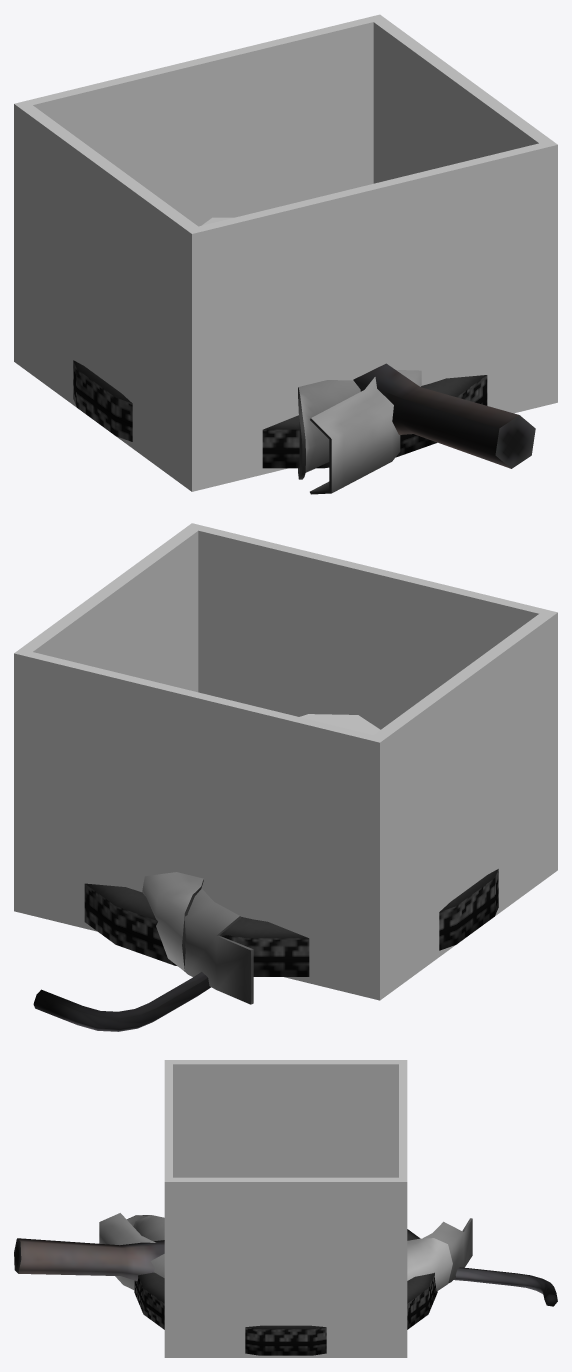
File: Bikes_90zanella50cc_Objects.fbx
The picture shows the model from 3 angles, top to bottom: view 1: azimuth 30°, elevation 25°; view 2: azimuth 150°, elevation 25°; view 3: azimuth 270°, elevation 25°; orthographic projection. The views are drawn at different scales.
Parts seen in each view (by area): view 1: zan_boxWI, zan_exhaustWI, zan_tireWI, zan_fender_rearWI, zan_box_lidWI, zan_fender_frontWI; view 2: zan_boxWI, zan_box_lidWI, zan_tireWI, zan_fender_rearWI, zan_exhaustWI, zan_fender_frontWI, zan_gastankWI; view 3: zan_boxWI, zan_exhaustWI, zan_tireWI, zan_fender_rearWI, zan_fender_frontWI.
Boxes of the visible parts, x1,y1,x2,y2 form: zan_boxWI: (14, 14, 557, 491); zan_exhaustWI: (353, 363, 535, 468); zan_tireWI: (73, 360, 487, 468); zan_fender_rearWI: (310, 370, 421, 494); zan_box_lidWI: (14, 320, 191, 491); zan_fender_frontWI: (298, 380, 360, 479); zan_boxWI: (14, 523, 557, 984); zan_box_lidWI: (14, 828, 557, 1000); zan_tireWI: (84, 869, 498, 976); zan_fender_rearWI: (184, 888, 253, 1004); zan_exhaustWI: (33, 972, 210, 1031); zan_fender_frontWI: (142, 872, 203, 971); zan_gastankWI: (300, 714, 380, 734); zan_boxWI: (164, 1060, 407, 1357); zan_exhaustWI: (14, 1238, 557, 1306); zan_tireWI: (134, 1229, 437, 1355); zan_fender_rearWI: (99, 1213, 472, 1290); zan_fender_frontWI: (127, 1215, 452, 1291).
Size of the model in its own units: 4.31 by 2.8 by 7.84.
